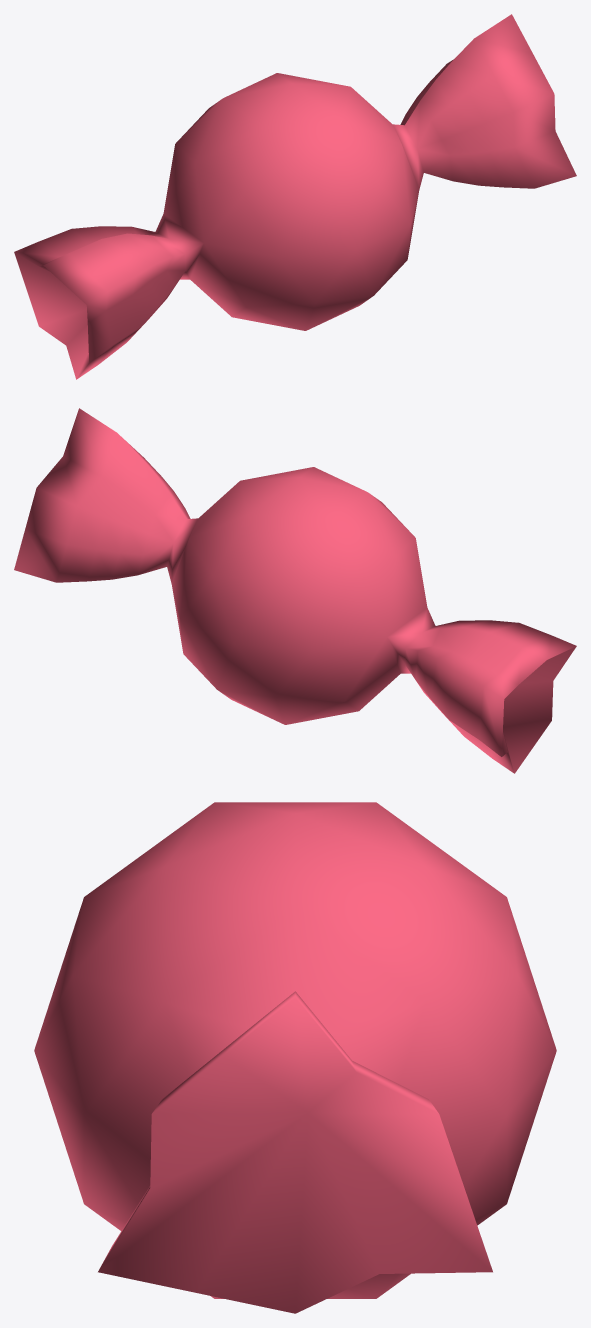
Rendered from feedbutton.glb.
3 renders of one model, top to bottom at view 1: azimuth 30°, elevation 25°; view 2: azimuth 150°, elevation 25°; view 3: azimuth 270°, elevation 25°, orthographic. The views are drawn at different scales.
Parts seen in each view (by area): view 1: feedbutton; view 2: feedbutton; view 3: feedbutton.
Boxes of the visible parts, bbox=[...] form: feedbutton: bbox=[14, 14, 576, 379]; feedbutton: bbox=[14, 408, 576, 773]; feedbutton: bbox=[34, 802, 556, 1313].
Size of what is drawn, in the model's own units: 1.6 by 0.816 by 0.7446.
1 material, 1 textured.
